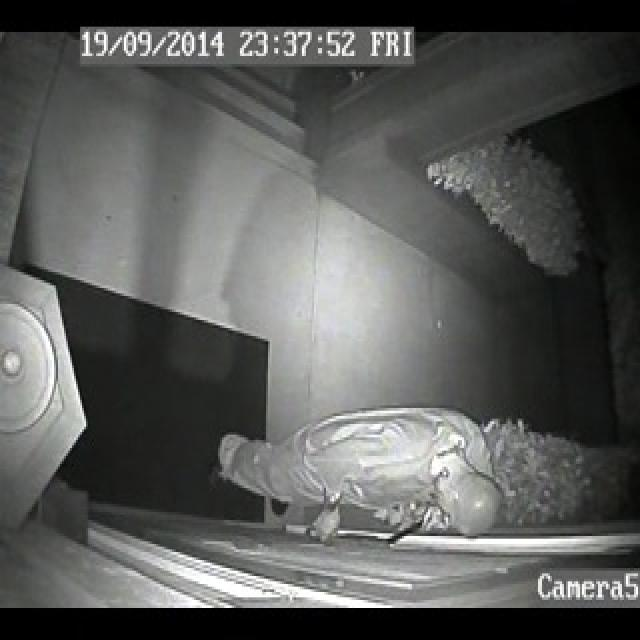burglary: (237, 390, 488, 561)
